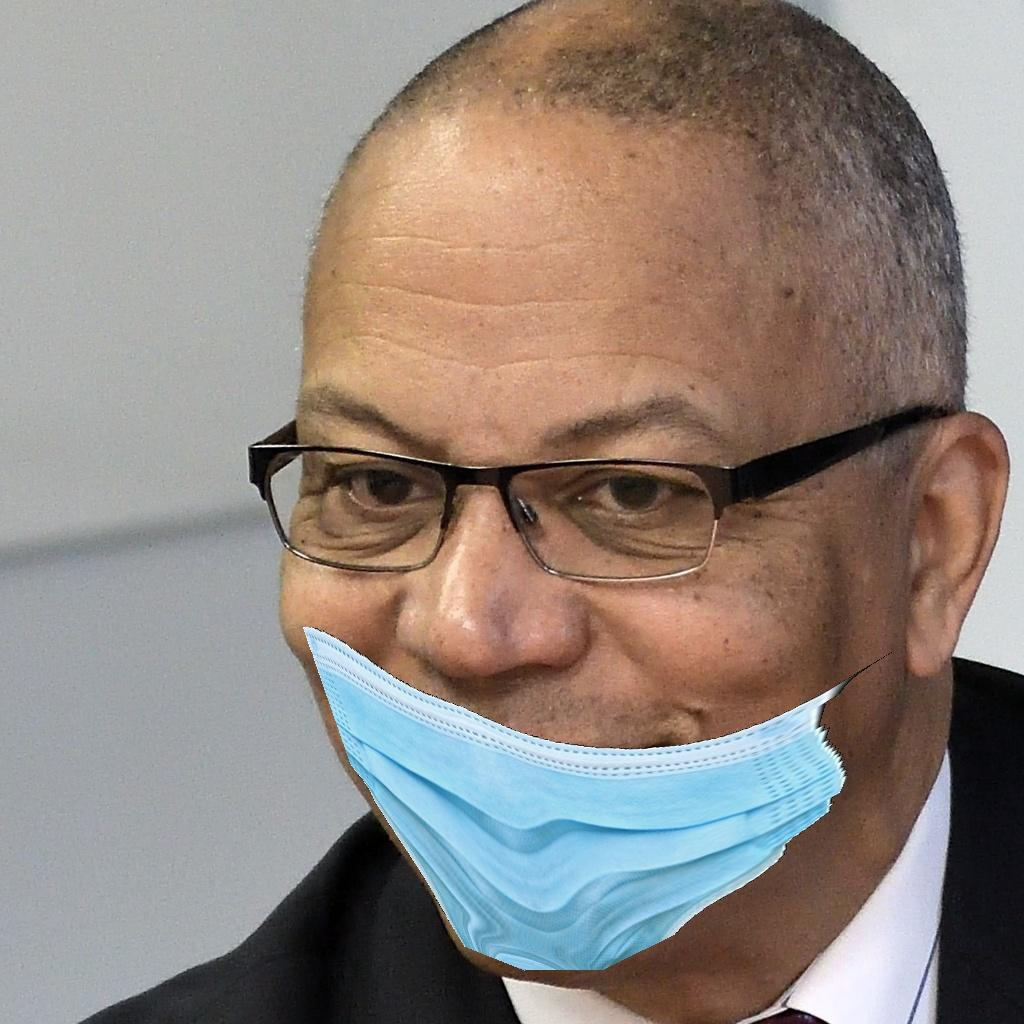Máscara Incorreta: (265, 178, 903, 932)
